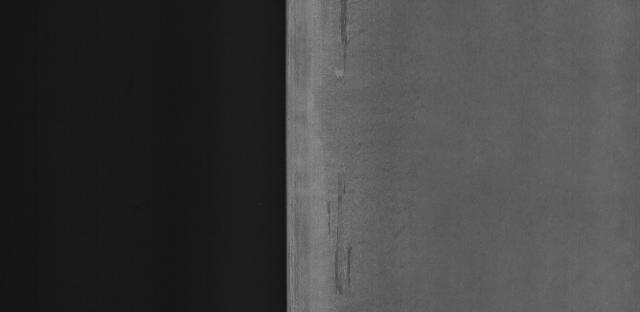silk_spot: (366, 28, 413, 260)
water_spot: (320, 175, 359, 296), (328, 1, 357, 79)
